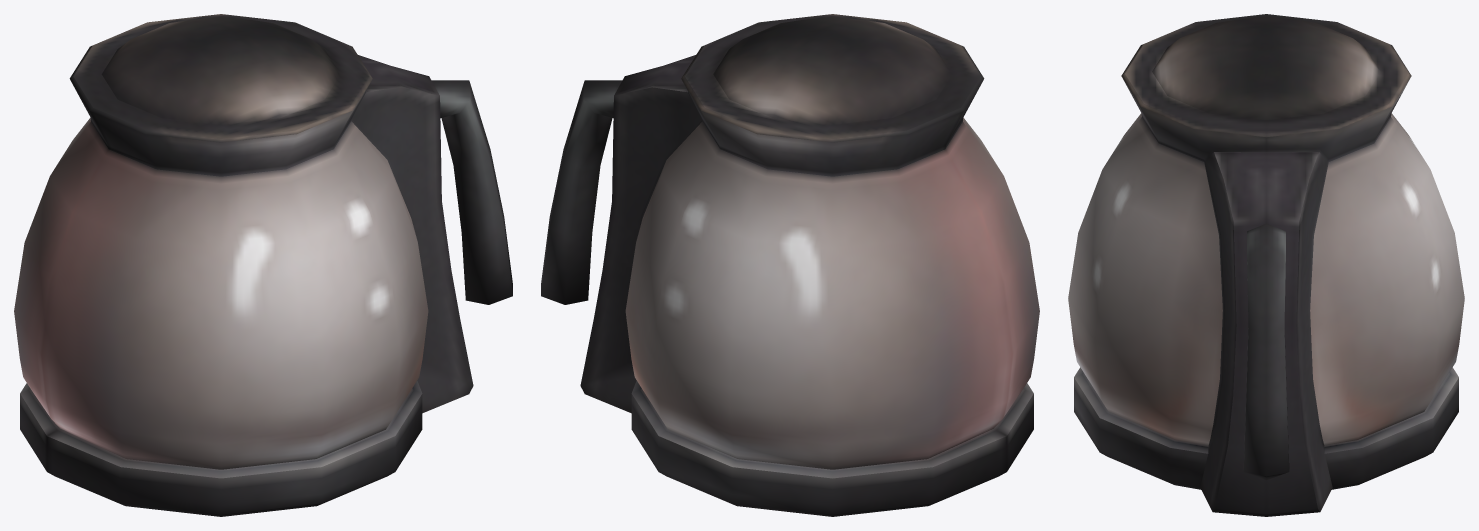
The model's file is ShenMiRenJia_01_kafeihu_01.FBX.
3 renders of one model, left to right at view 1: azimuth 30°, elevation 25°; view 2: azimuth 150°, elevation 25°; view 3: azimuth 270°, elevation 25°, orthographic. The views are drawn at different scales.
Visible parts, largest first — view 1: ShenMiRenJia_01_kafeihu_01; view 2: ShenMiRenJia_01_kafeihu_01; view 3: ShenMiRenJia_01_kafeihu_01.
Boxes of the visible parts, x1,y1,x2,y2 form: ShenMiRenJia_01_kafeihu_01: (14,14,512,516); ShenMiRenJia_01_kafeihu_01: (541,14,1039,516); ShenMiRenJia_01_kafeihu_01: (1068,14,1464,516).
Size of the model in its own units: 155 by 126 by 118.
